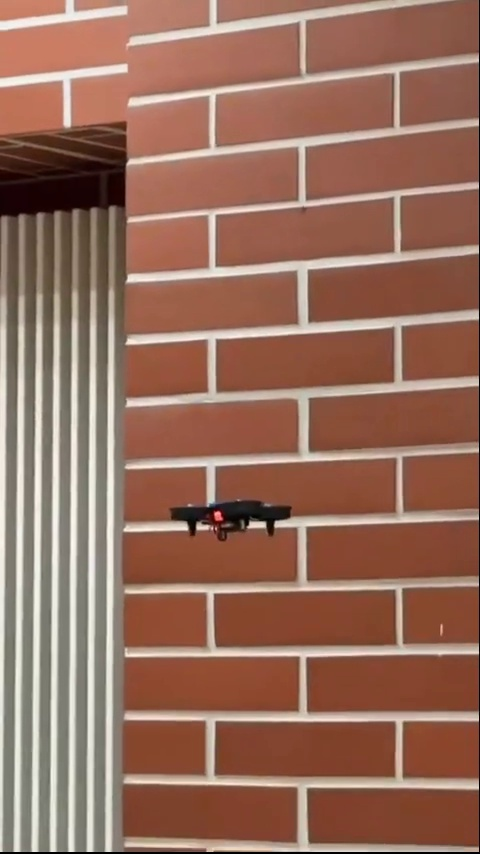drone: (166, 496, 295, 543)
